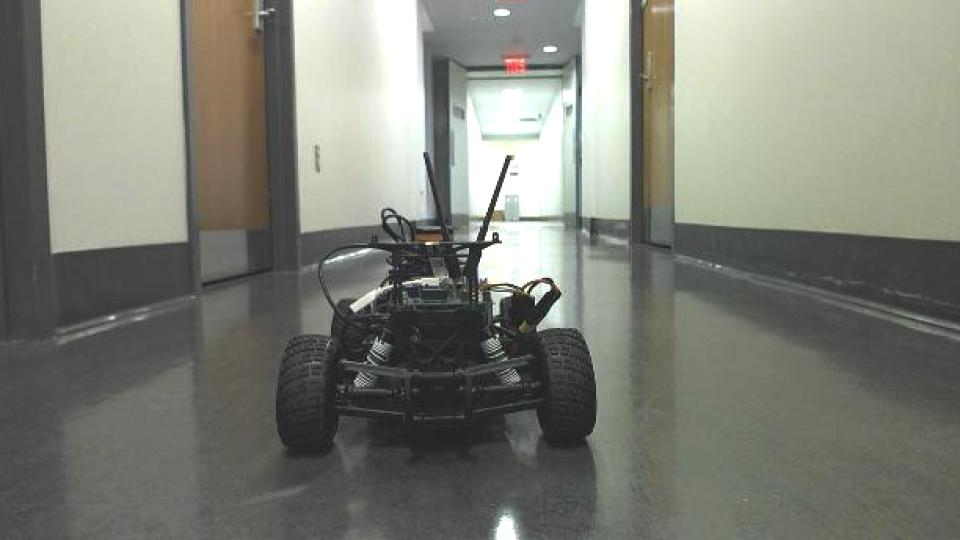car: (272, 149, 600, 457)
